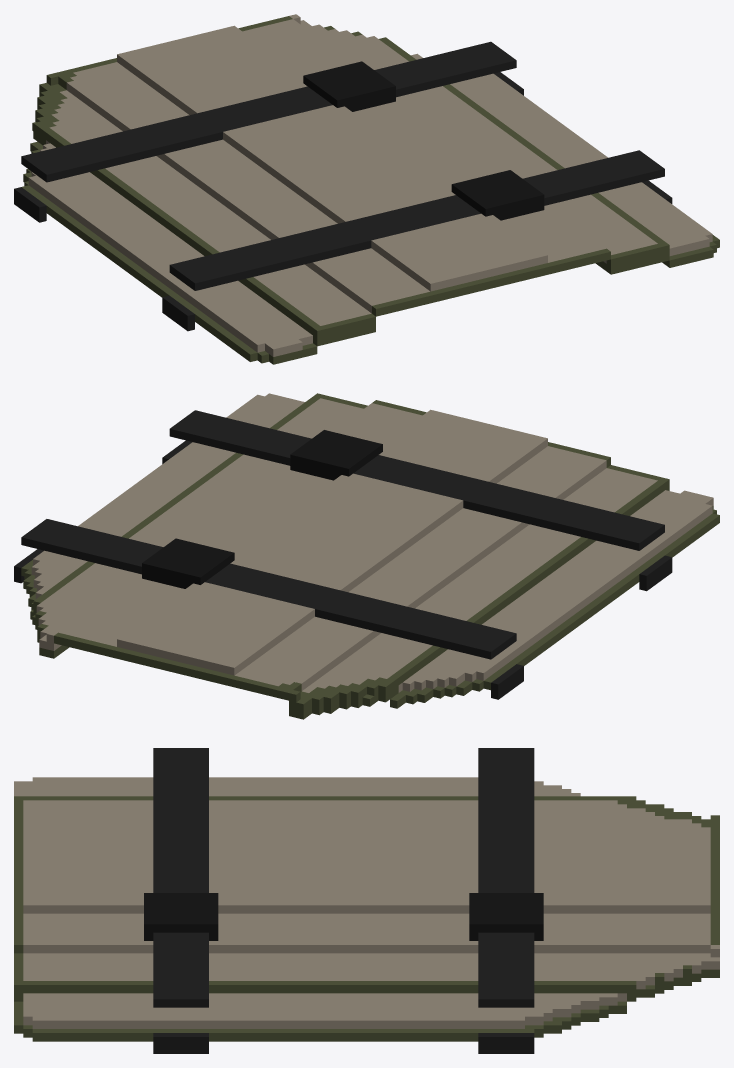
Rendered from forged_steel_front_plate.glb.
The picture shows the model from 3 angles, top to bottom: view 1: azimuth 30°, elevation 25°; view 2: azimuth 150°, elevation 25°; view 3: azimuth 270°, elevation 25°; orthographic projection. The views are drawn at different scales.
Visible parts, largest first — view 1: forged_steel_front_plate:compound; view 2: forged_steel_front_plate:compound; view 3: forged_steel_front_plate:compound.
Boxes of the visible parts, x1,y1,x2,y2 form: forged_steel_front_plate:compound: [14, 14, 719, 364]; forged_steel_front_plate:compound: [14, 393, 719, 719]; forged_steel_front_plate:compound: [14, 748, 719, 1053].
Size of the model in its own units: 0.264 by 0.028 by 0.304.
